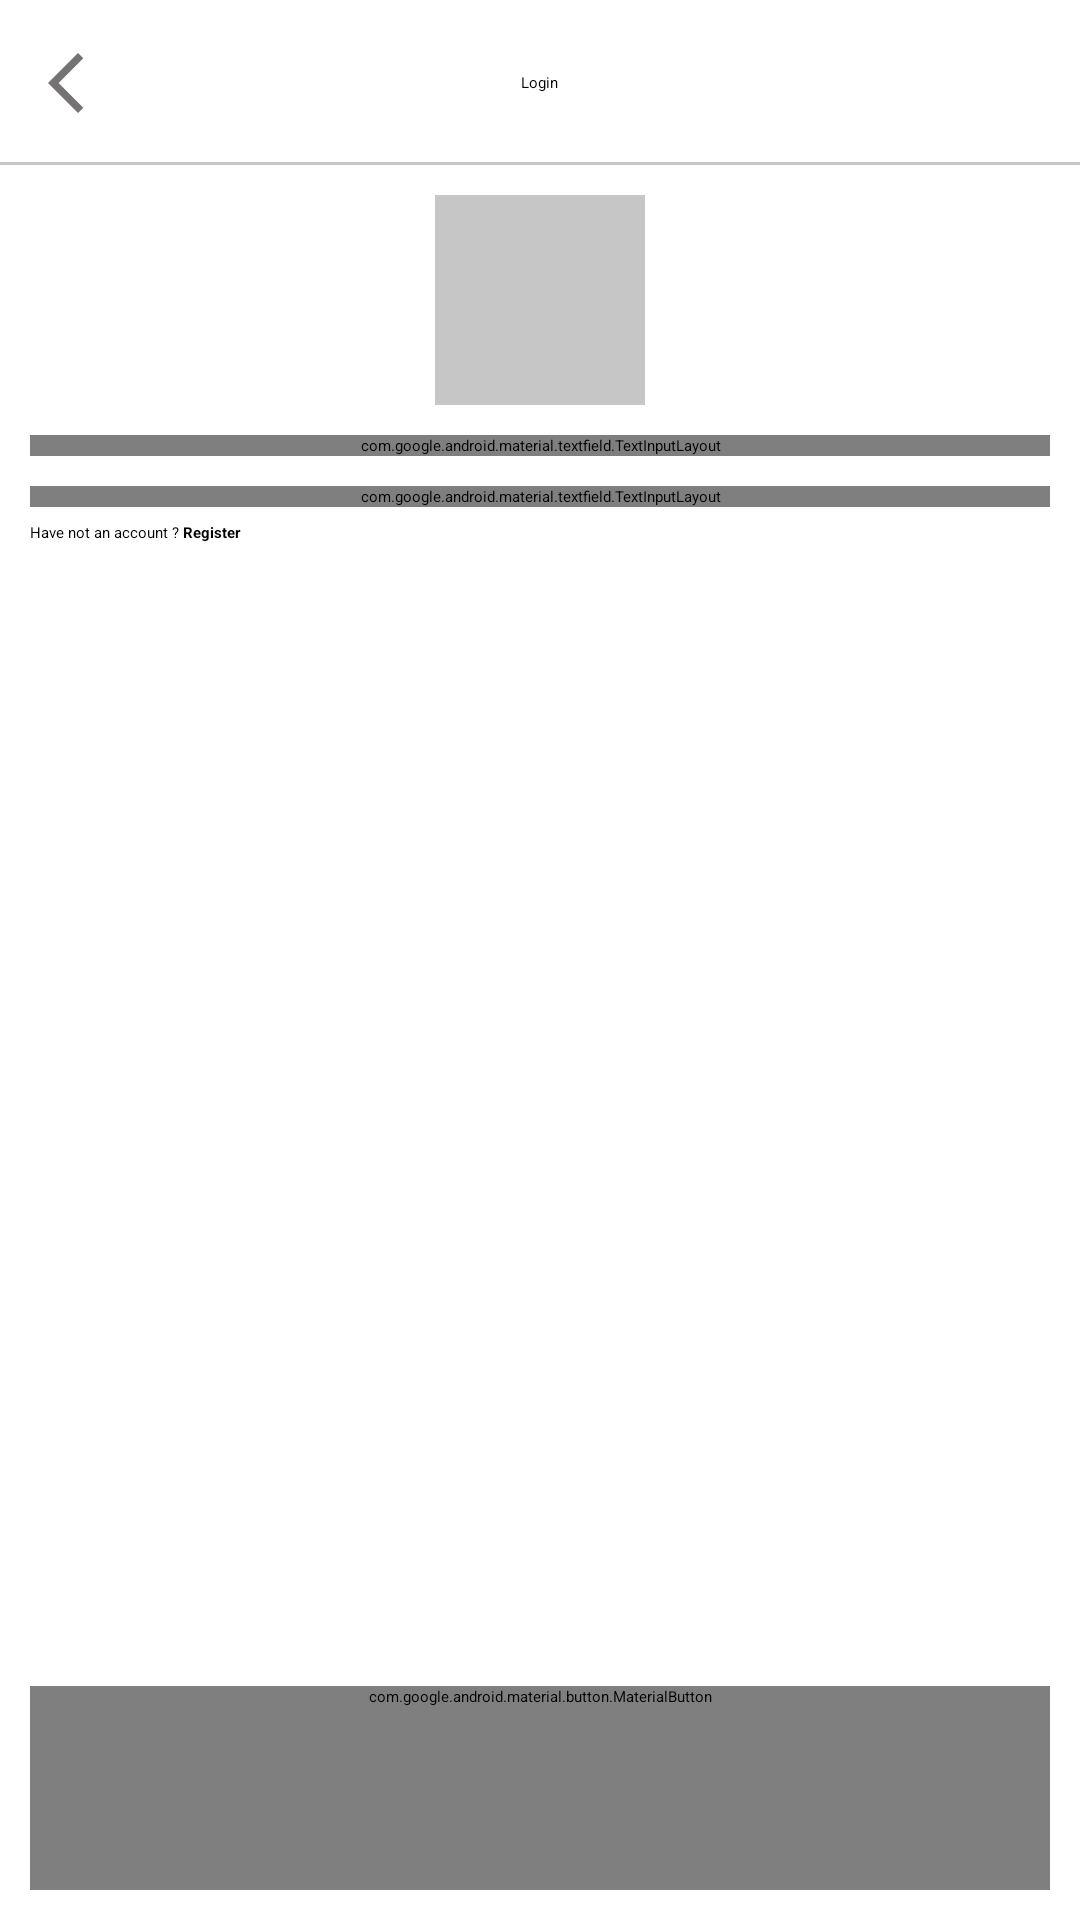

Icons on this 1080px x 1920px Android screen, each with the point to tap as (x=x, y=y):
back: (x=65, y=83)
